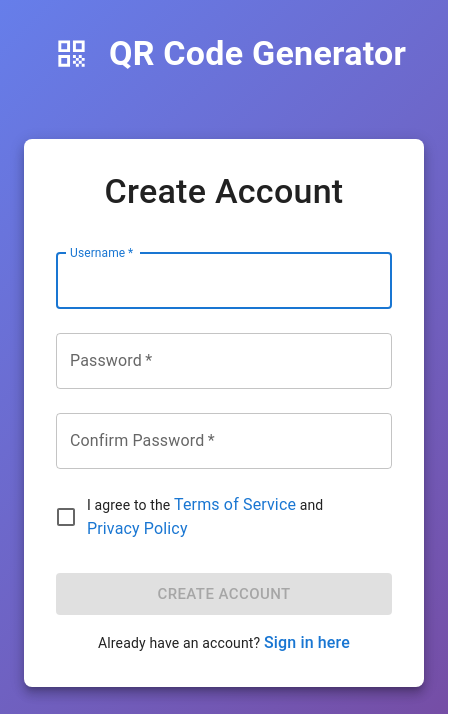
it: RegisterForm › validates password requirements
Type "password" into the password field labelled "Password *" at (224, 361), box [56, 333, 392, 389]
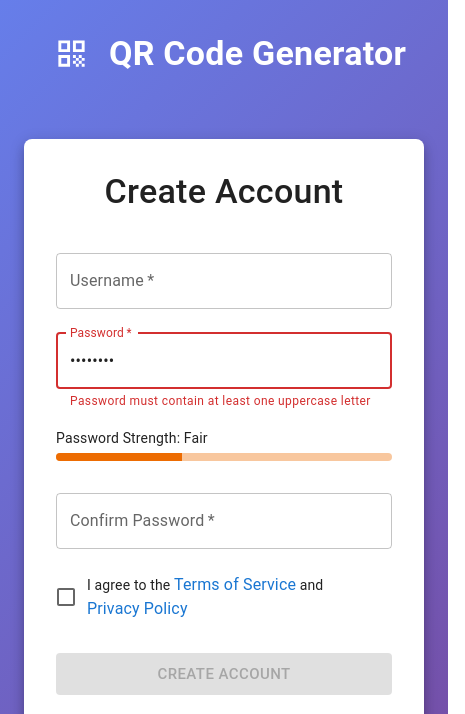
Expected: the text "Password must contain at least one uppercase letter" is shown, [70, 392, 378, 412]
